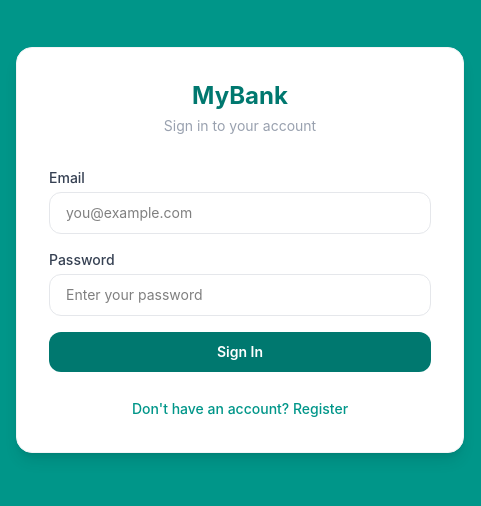
Test: Login - Sign In mode › shows error message on login failure
This screenshot has width=481, height=506.
Type "wrong@test.com" into the field with placeholder "you@example.com".
click(240, 213); type("wrong@test.com")  # box [49,192,431,234]
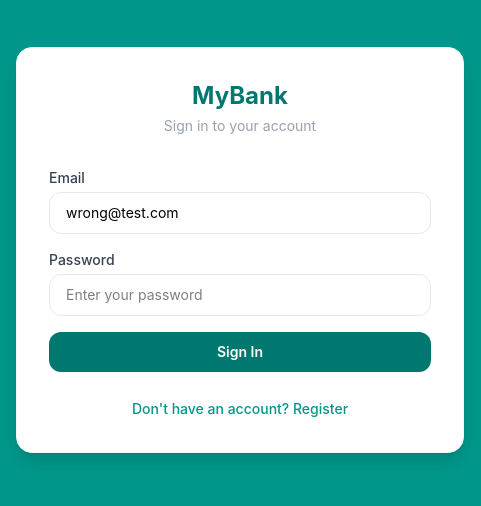
Type "wrong" into the password field with placeholder "Enter your password".
click(240, 295); type("wrong")  # box [49,274,431,316]
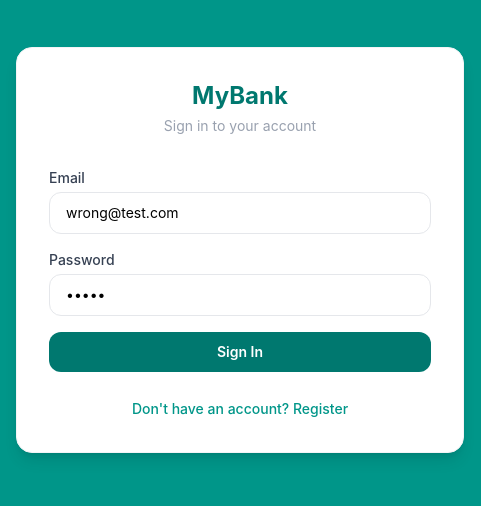
Click the button "Sign In".
click(240, 352)  # box [49,332,431,372]
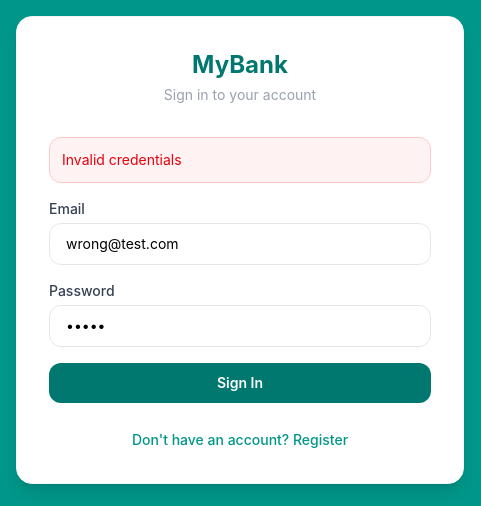
Now the text "Invalid credentials" is shown, box [49,137,431,183]
